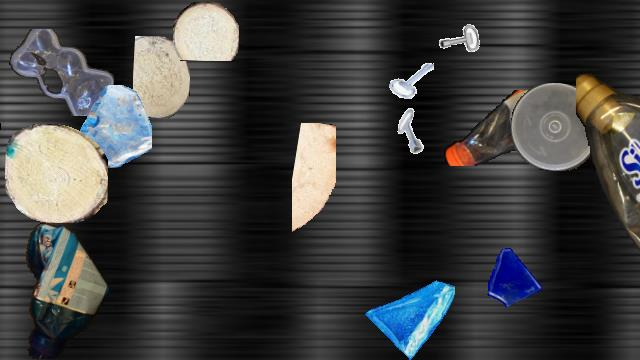glass: (364, 269, 454, 359), (69, 85, 151, 167), (482, 245, 544, 307)
metal: (427, 2, 483, 58), (390, 108, 436, 154), (389, 59, 433, 103)
plastic: (576, 66, 640, 276), (20, 221, 108, 359), (442, 90, 588, 166), (9, 29, 115, 115), (511, 83, 599, 171), (0, 111, 1, 247)
wood: (5, 124, 107, 222), (292, 123, 336, 239), (133, 36, 189, 118), (173, 2, 239, 60)
